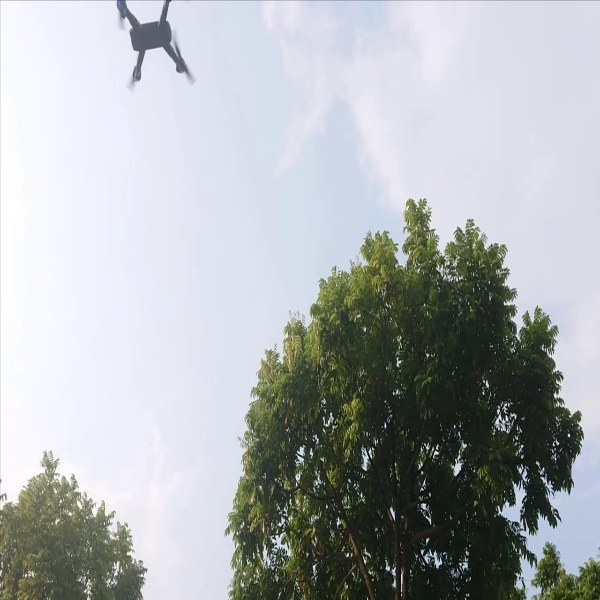drone: (111, 1, 207, 93)
